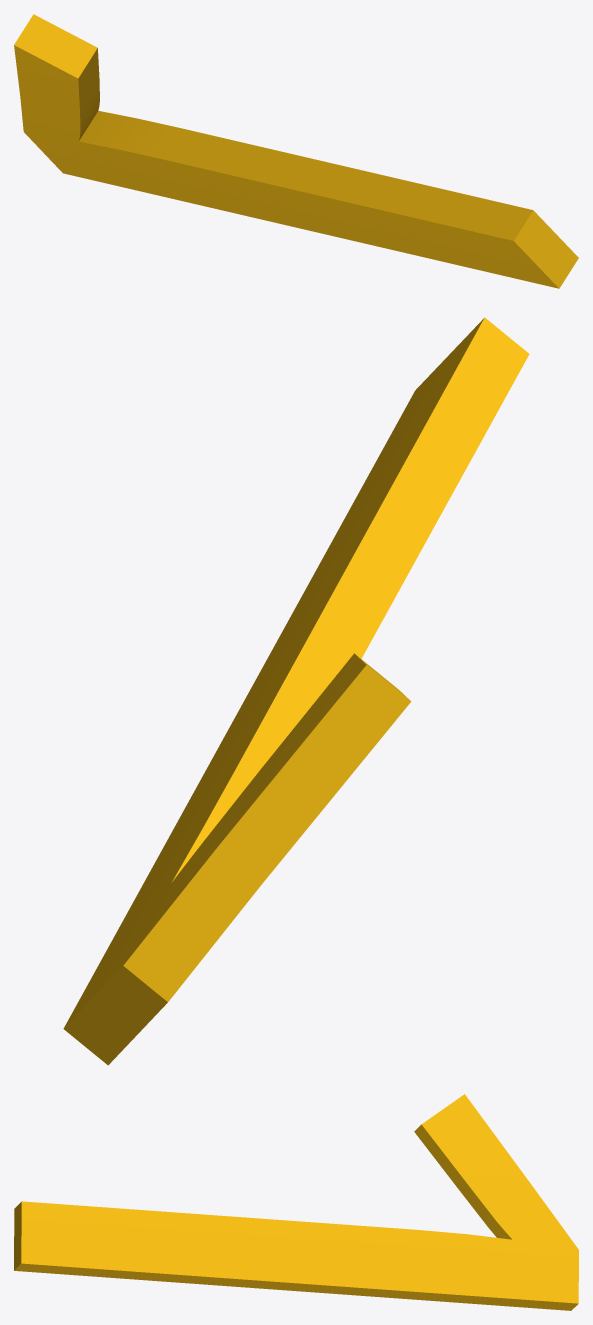
Rendered from Number_1.gltf.
3 views of the same model, one above another, from view 1: azimuth 30°, elevation 25°; view 2: azimuth 150°, elevation 25°; view 3: azimuth 270°, elevation 25° (orthographic). The views are drawn at different scales.
Parts seen in each view (by area): view 1: Sub_7_Cell_2_1_Number_1; view 2: Sub_7_Cell_2_1_Number_1; view 3: Sub_7_Cell_2_1_Number_1.
Part boxes in pixels (box(x1,y1,x2,y2)): Sub_7_Cell_2_1_Number_1: box(14, 14, 578, 288); Sub_7_Cell_2_1_Number_1: box(63, 317, 529, 1065); Sub_7_Cell_2_1_Number_1: box(14, 1094, 578, 1310).
Size of the model in its own units: 0.0109 by 0.00864 by 0.0246.
